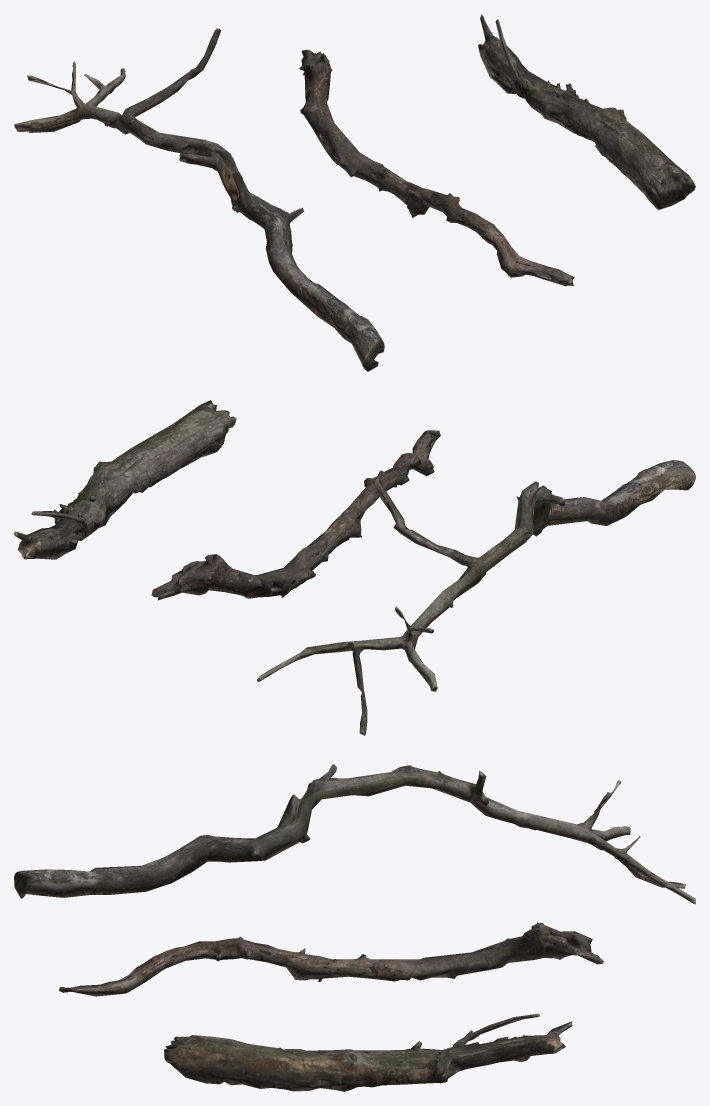
File: dry_branches_medium_01.gltf
The picture shows the model from 3 angles, top to bottom: view 1: azimuth 30°, elevation 25°; view 2: azimuth 150°, elevation 25°; view 3: azimuth 270°, elevation 25°; orthographic projection. The views are drawn at different scales.
Parts seen in each view (by area): view 1: dry_branches_medium_01_a, dry_branches_medium_01_c, dry_branches_medium_01_b; view 2: dry_branches_medium_01_a, dry_branches_medium_01_c, dry_branches_medium_01_b; view 3: dry_branches_medium_01_a, dry_branches_medium_01_c, dry_branches_medium_01_b.
Boxes of the visible parts, x1=… form: dry_branches_medium_01_a: x1=14, y1=28, x2=384, y2=371; dry_branches_medium_01_c: x1=478, y1=14, x2=695, y2=209; dry_branches_medium_01_b: x1=299, y1=49, x2=574, y2=286; dry_branches_medium_01_a: x1=257, y1=460, x2=695, y2=735; dry_branches_medium_01_c: x1=14, y1=400, x2=236, y2=559; dry_branches_medium_01_b: x1=151, y1=430, x2=440, y2=600; dry_branches_medium_01_a: x1=14, y1=764, x2=695, y2=904; dry_branches_medium_01_c: x1=164, y1=1013, x2=572, y2=1091; dry_branches_medium_01_b: x1=59, y1=922, x2=604, y2=996.
Size of the model in its own units: 1.06 by 0.34 by 1.3.
1 material, 1 textured.
